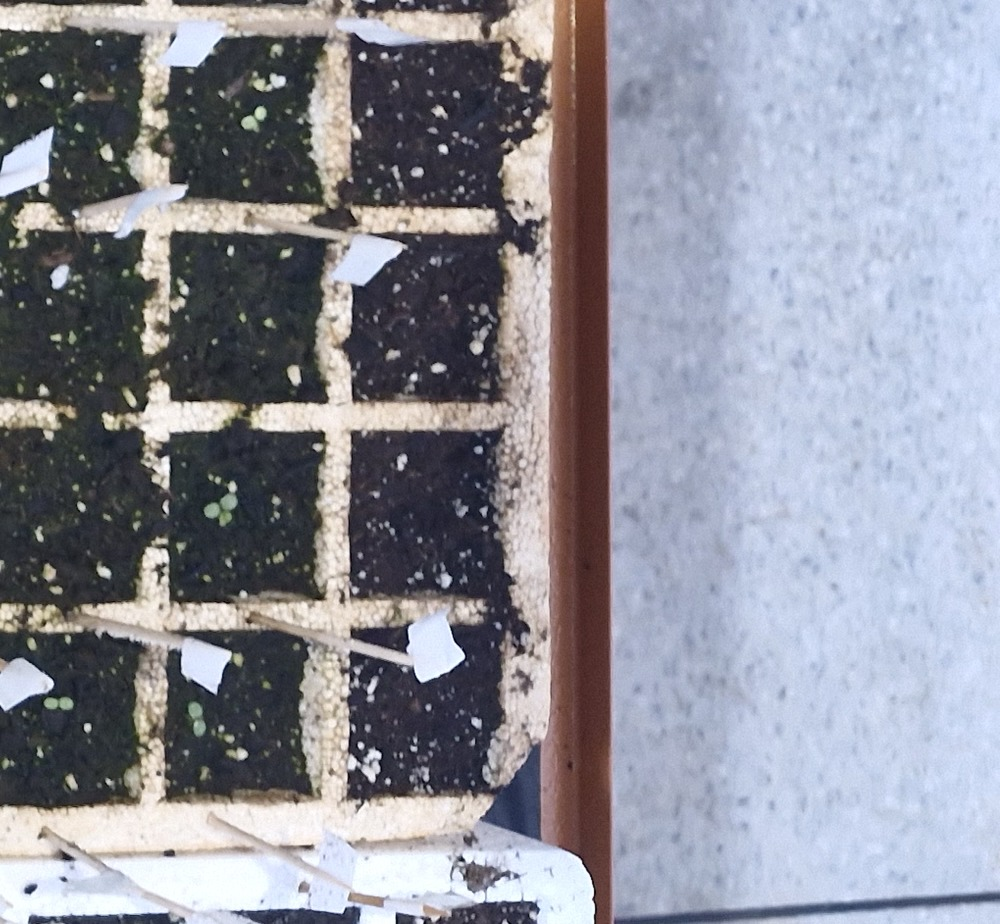Folha: (204, 502, 221, 518), (221, 494, 238, 509), (188, 702, 203, 719), (193, 720, 207, 737), (242, 115, 257, 129), (254, 106, 267, 120), (220, 511, 232, 526), (59, 697, 73, 709), (44, 698, 58, 709)
Germinacao: (204, 493, 238, 526), (240, 105, 268, 131), (189, 703, 206, 736), (44, 697, 74, 710)
